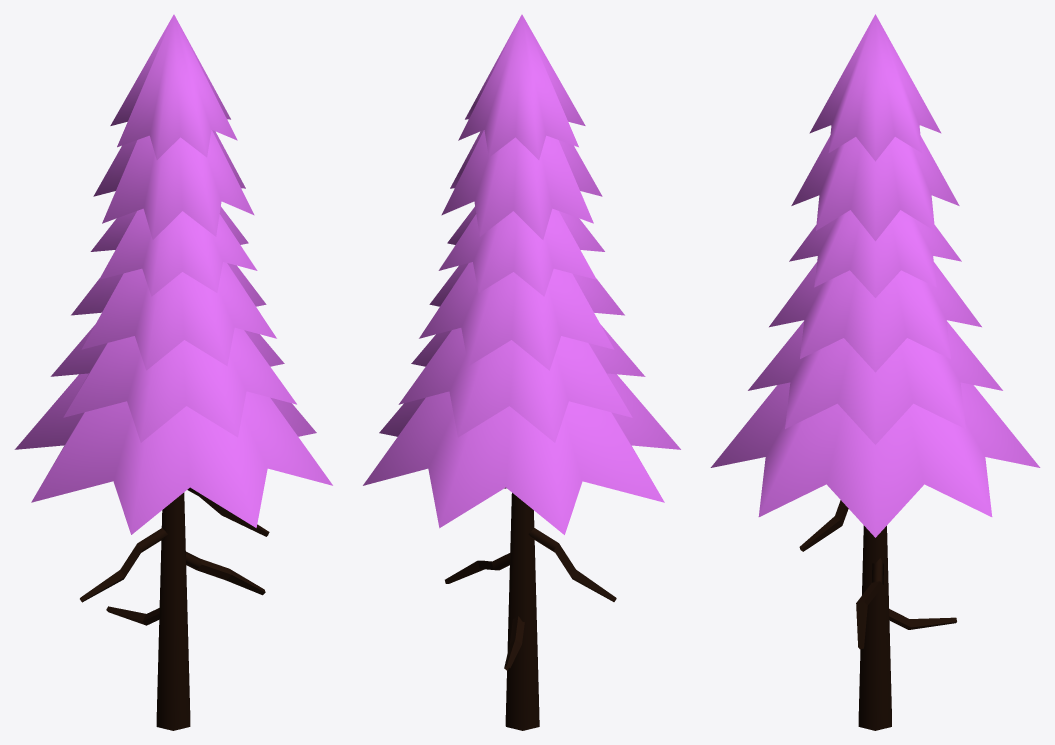
The model's file is Pino.fbx.
The picture shows the model from 3 angles, left to right: view 1: azimuth 30°, elevation 25°; view 2: azimuth 150°, elevation 25°; view 3: azimuth 270°, elevation 25°; orthographic projection.
Visible parts, largest first — view 1: ARBOL; view 2: ARBOL; view 3: ARBOL.
Boxes of the visible parts, x1,y1,x2,y2 form: ARBOL: (14, 14, 332, 730); ARBOL: (363, 14, 680, 730); ARBOL: (710, 14, 1040, 730).
Size of the model in its own units: 45.22 by 107 by 45.22.
